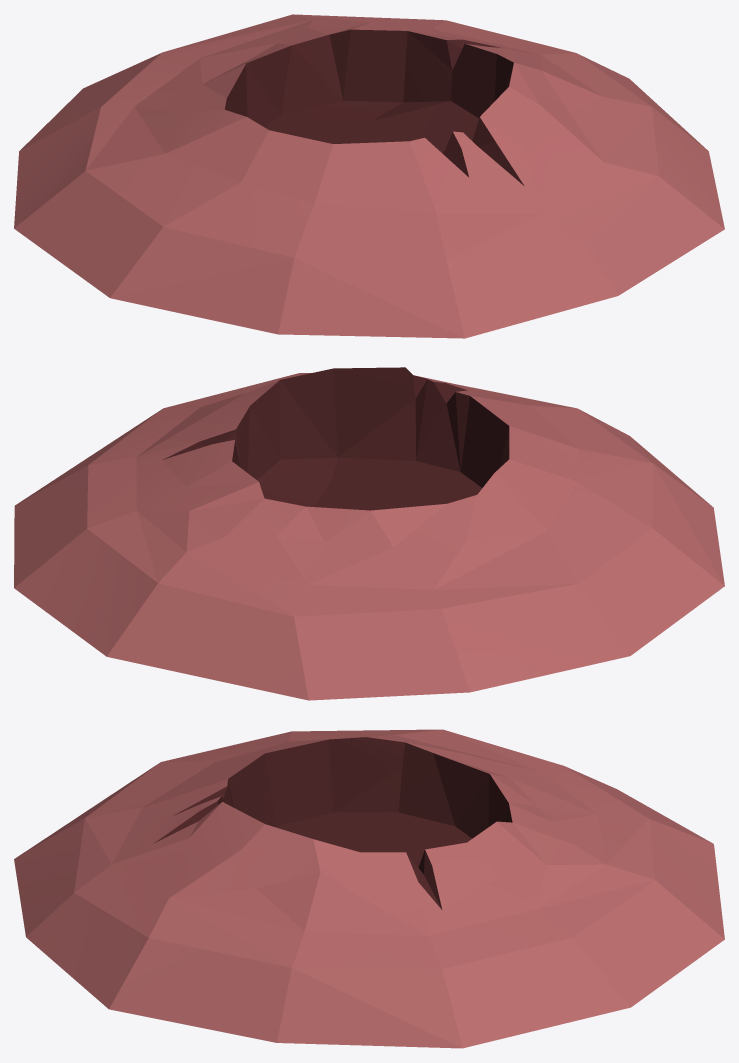
The model's file is entity81936.glb.
3 renders of one model, top to bottom at view 1: azimuth 30°, elevation 25°; view 2: azimuth 150°, elevation 25°; view 3: azimuth 270°, elevation 25°, orthographic.
Parts seen in each view (by area): view 1: node_SM_Env_Detail_Crater_03 (13); view 2: node_SM_Env_Detail_Crater_03 (13); view 3: node_SM_Env_Detail_Crater_03 (13).
Part boxes in pixels (left/top/right/bottom): node_SM_Env_Detail_Crater_03 (13): left=14, top=14, right=724, bottom=338; node_SM_Env_Detail_Crater_03 (13): left=14, top=367, right=724, bottom=700; node_SM_Env_Detail_Crater_03 (13): left=14, top=729, right=724, bottom=1048.
Size of the model in its own units: 21.98 by 4.07 by 22.08.
1 material, 1 textured.
